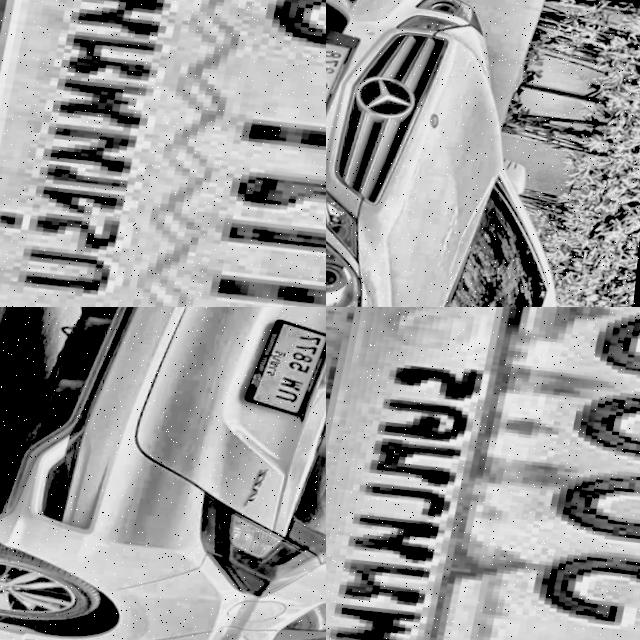license-plate: (326, 307, 640, 640), (0, 0, 326, 307), (243, 313, 326, 418), (326, 32, 359, 117)
